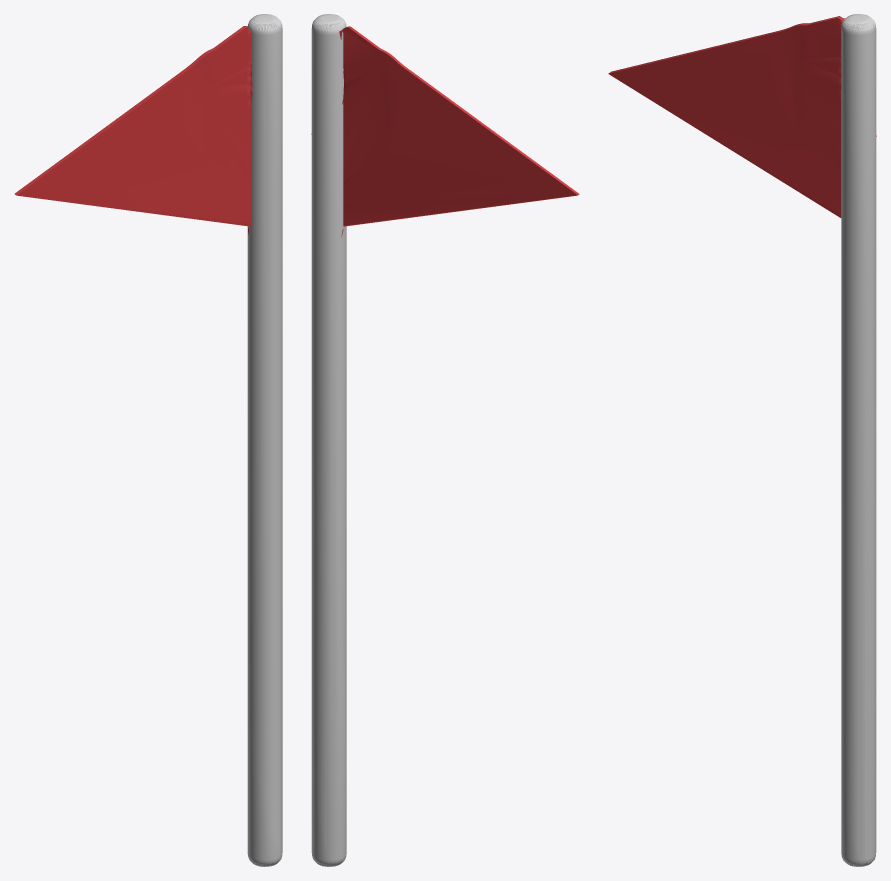
Rendered from opt-golf-flag.glb.
The picture shows the model from 3 angles, left to right: view 1: azimuth 30°, elevation 25°; view 2: azimuth 150°, elevation 25°; view 3: azimuth 330°, elevation 25°; orthographic projection.
Parts seen in each view (by area): view 1: Object_2; view 2: Object_2; view 3: Object_2.
Boxes of the visible parts, x1,y1,x2,y2 form: Object_2: [14, 14, 282, 866]; Object_2: [311, 14, 579, 866]; Object_2: [608, 14, 876, 866].
Size of the model in its own units: 11.28 by 34.36 by 1.29.
